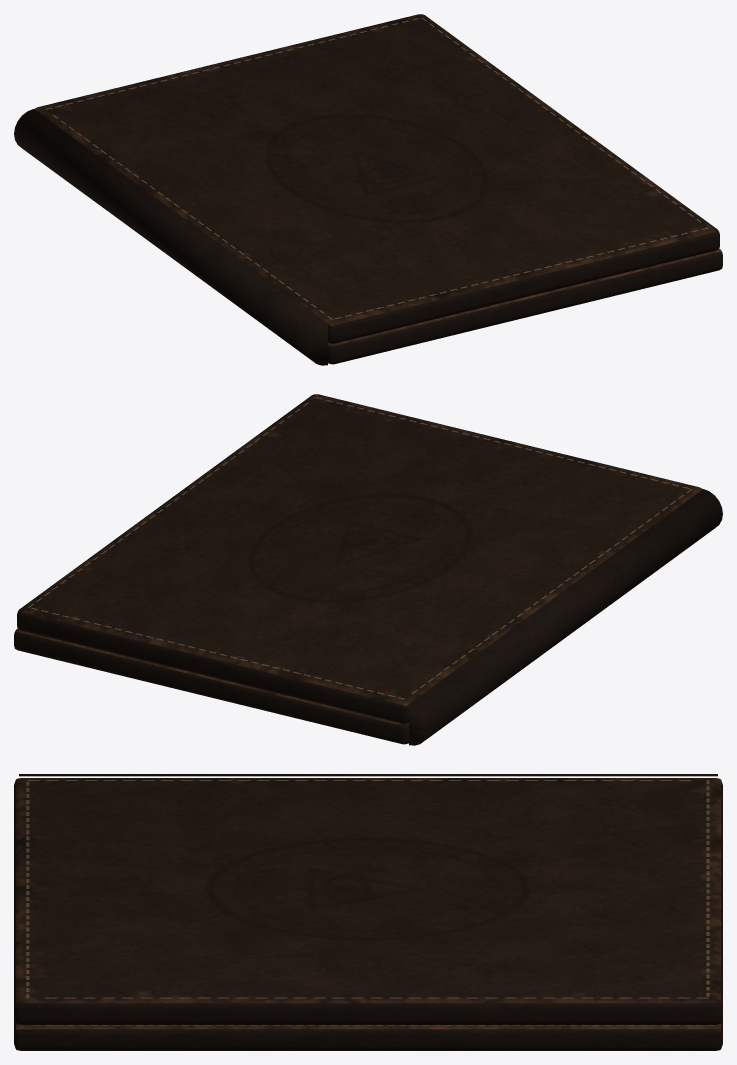
File: fbi_id_halli.glb
3 renders of one model, top to bottom at view 1: azimuth 30°, elevation 25°; view 2: azimuth 150°, elevation 25°; view 3: azimuth 270°, elevation 25°, orthographic. The views are drawn at different scales.
Parts seen in each view (by area): view 1: cover_mesh, base; view 2: cover_mesh, base; view 3: cover_mesh, base.
Part boxes in pixels (<box>): cover_mesh: <box>34,14,719,343</box>; base: <box>14,109,722,365</box>; cover_mesh: <box>17,394,702,723</box>; base: <box>14,489,722,745</box>; cover_mesh: <box>14,778,722,1024</box>; base: <box>14,774,722,1050</box>.
Size of the model in its own units: 0.0879 by 0.0084 by 0.11.
Materials: 1 (1 with a texture image).
